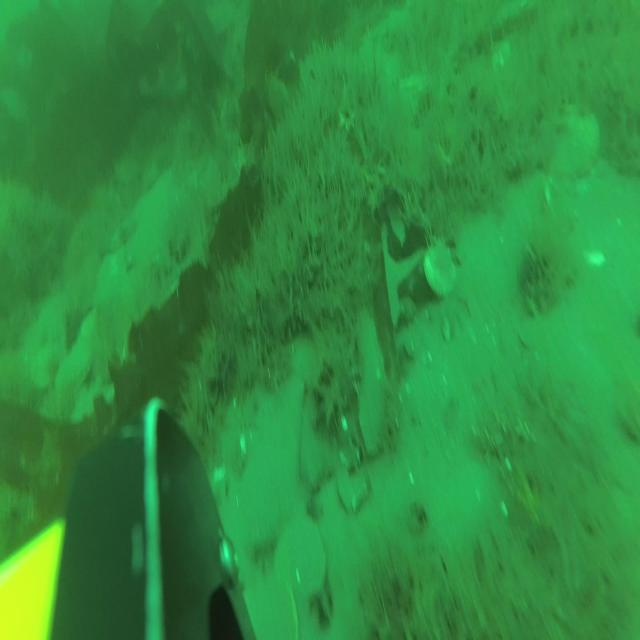scallop: (537, 104, 601, 181), (239, 575, 299, 640), (276, 520, 322, 589), (54, 332, 94, 396), (424, 239, 456, 292)
